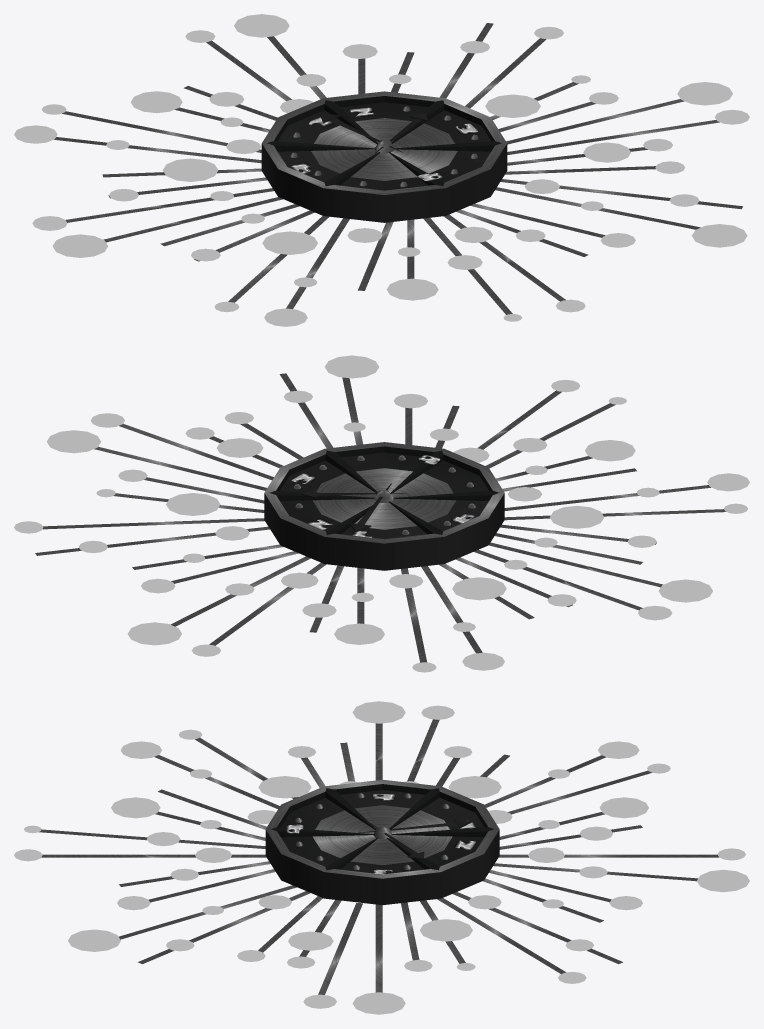
File: Clock_02_F.FBX
The picture shows the model from 3 angles, top to bottom: view 1: azimuth 30°, elevation 25°; view 2: azimuth 150°, elevation 25°; view 3: azimuth 270°, elevation 25°; orthographic projection. The views are drawn at different scales.
Parts seen in each view (by area): view 1: Starburst_Clock_B; view 2: Starburst_Clock_B; view 3: Starburst_Clock_B.
Boxes of the visible parts, x1,y1,x2,y2 form: Starburst_Clock_B: [14, 14, 749, 326]; Starburst_Clock_B: [14, 355, 749, 672]; Starburst_Clock_B: [14, 701, 749, 1014].
Bounding box in the file's own units: 76.01 × 3.32 × 75.43.
